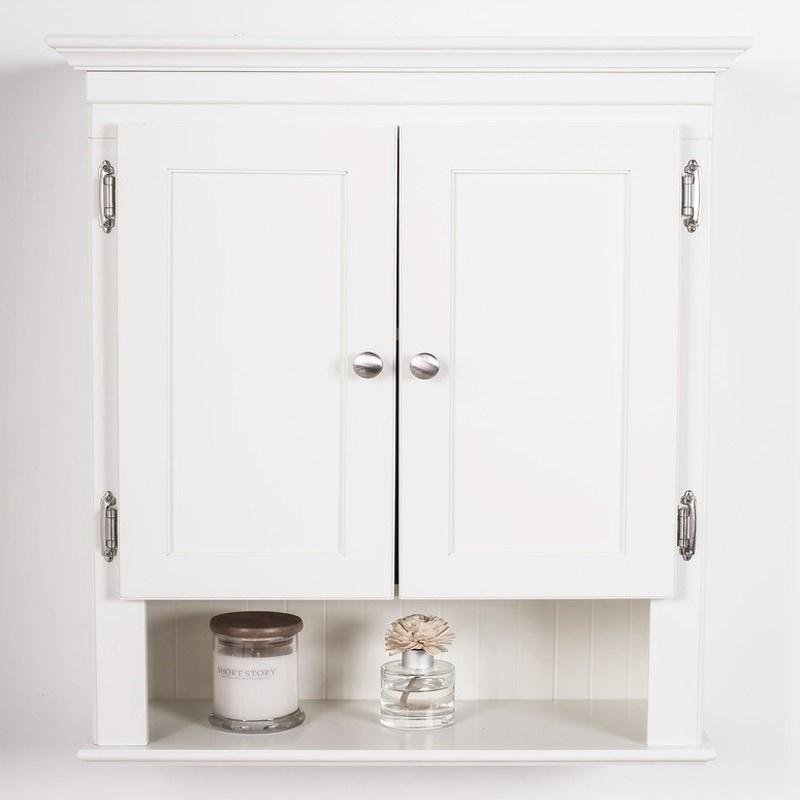cabinet_door: (403, 128, 682, 595), (109, 127, 389, 589)
handle: (350, 347, 383, 389), (409, 349, 442, 389)
